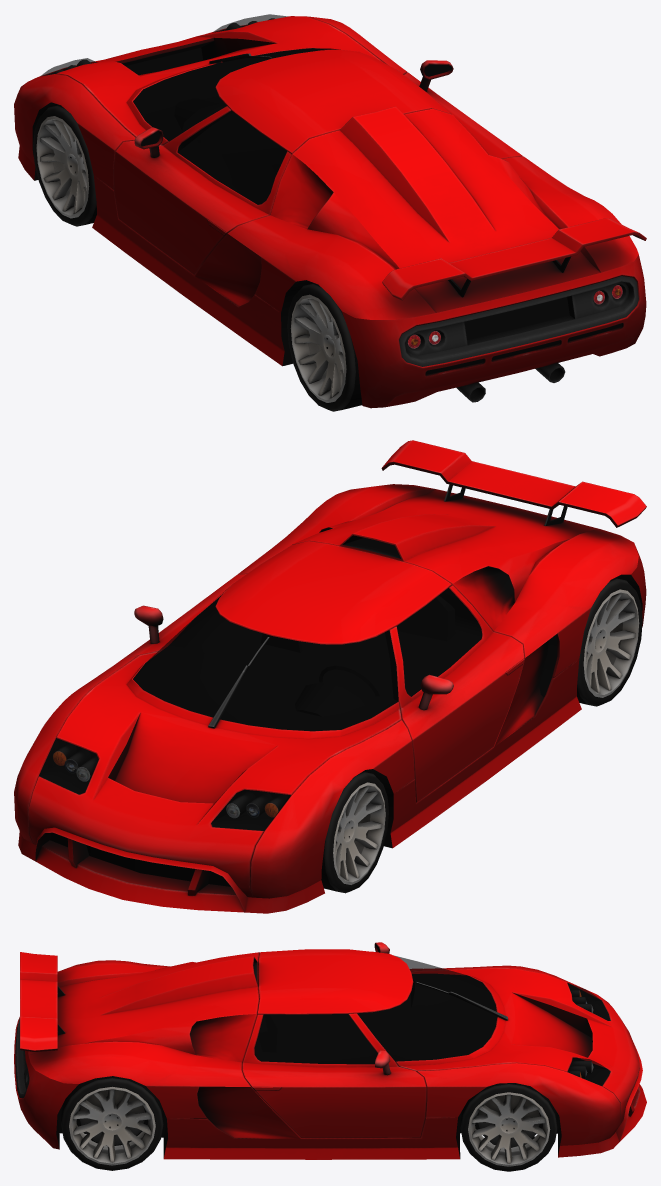
File: sport.glb
3 renders of one model, top to bottom at view 1: azimuth 30°, elevation 25°; view 2: azimuth 150°, elevation 25°; view 3: azimuth 270°, elevation 25°, orthographic. The views are drawn at different scales.
Parts seen in each view (by area): view 1: Body, Wheel_RL, Wheel_FL; view 2: Body, Wheel_RL, Wheel_FL; view 3: Body, Wheel_RR, Wheel_FR.
Boxes of the visible parts, bbox=[...] form: Body: bbox=[14, 14, 646, 408]; Wheel_RL: bbox=[287, 283, 362, 411]; Wheel_FL: bbox=[33, 105, 96, 226]; Body: bbox=[14, 440, 646, 913]; Wheel_RL: bbox=[577, 577, 642, 706]; Wheel_FL: bbox=[321, 771, 388, 893]; Body: bbox=[14, 942, 646, 1159]; Wheel_RR: bbox=[61, 1076, 163, 1170]; Wheel_FR: bbox=[460, 1083, 557, 1171].
Bounding box in the file's own units: 1.77 × 1.04 × 3.91.
Materials: 4 (3 with a texture image).
